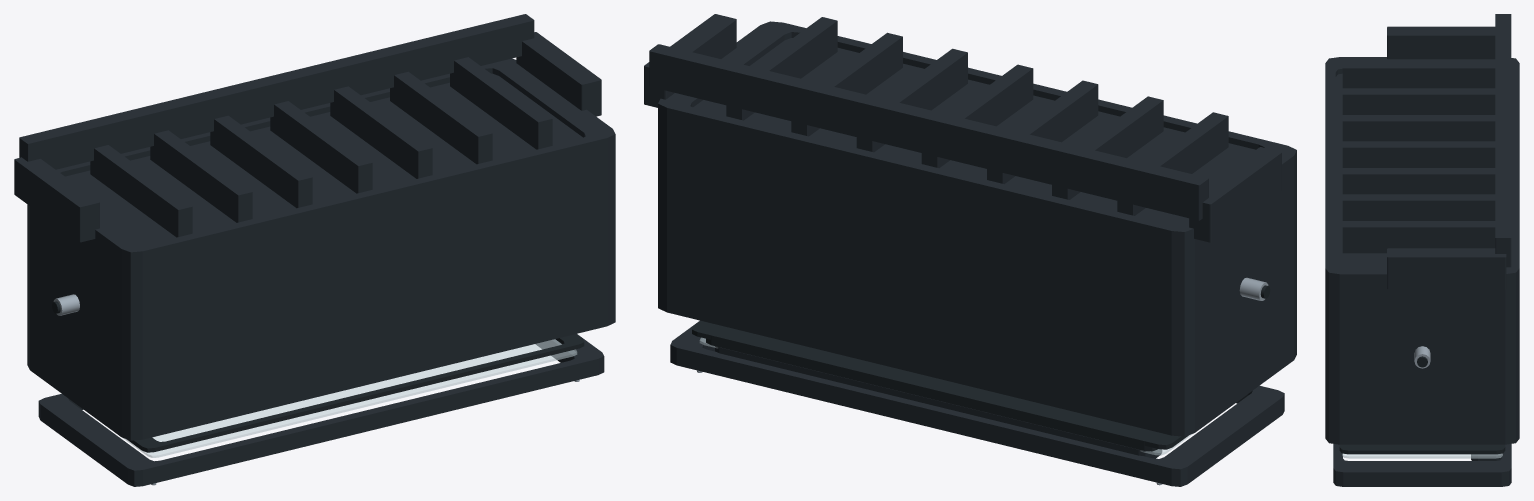
The model's file is source.glb.
The picture shows the model from 3 angles, left to right: view 1: azimuth 30°, elevation 25°; view 2: azimuth 150°, elevation 25°; view 3: azimuth 270°, elevation 25°; orthographic projection. The views are drawn at different scales.
Visible parts, largest first — view 1: 粉末涂层铝壳, 光学透明件, 密封及绝缘件; view 2: 粉末涂层铝壳, 密封及绝缘件; view 3: 粉末涂层铝壳, 密封及绝缘件, 光学透明件, 机加工金属.
Boxes of the visible parts, x1,y1,x2,y2 form: 粉末涂层铝壳: (14,14,615,486); 光学透明件: (123,339,577,457); 密封及绝缘件: (52,301,584,452); 粉末涂层铝壳: (644,14,1296,486); 密封及绝缘件: (692,285,1270,451); 粉末涂层铝壳: (1325,14,1519,486); 密封及绝缘件: (1339,356,1505,454); 光学透明件: (1342,453,1502,458); 机加工金属: (1414,346,1430,368).
Size of the model in its own units: 0.2977 by 0.1541 by 0.1037.
